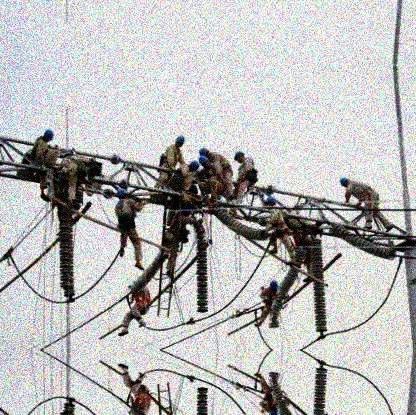helmet: (43, 129, 55, 145), (265, 197, 278, 210), (116, 188, 129, 201), (233, 151, 247, 163), (175, 135, 185, 149), (338, 177, 350, 187), (188, 162, 200, 172), (270, 281, 278, 292), (270, 407, 278, 415)
